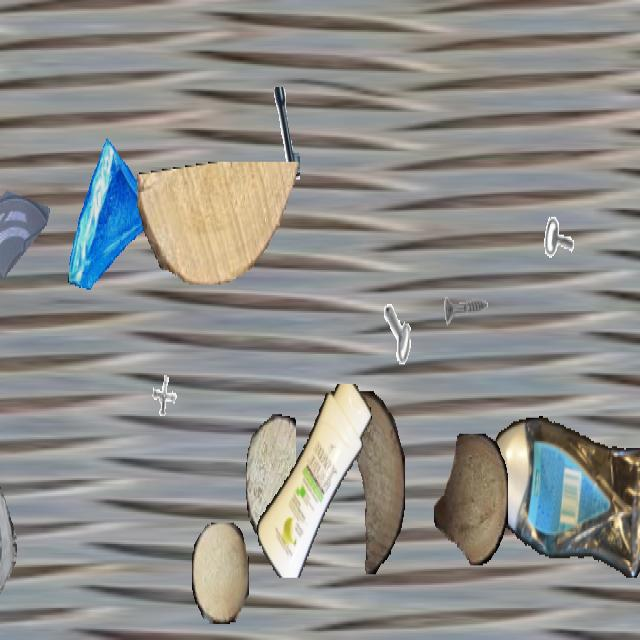glass: (66, 137, 160, 304), (0, 162, 51, 290), (0, 482, 16, 638)
metal: (242, 87, 300, 190), (383, 270, 437, 366), (442, 270, 488, 352), (146, 361, 186, 432), (544, 192, 584, 263)
plastic: (489, 414, 640, 585), (254, 384, 376, 576)
wood: (137, 162, 303, 282), (333, 391, 405, 573), (434, 434, 508, 565), (246, 414, 296, 542), (192, 523, 248, 622)
